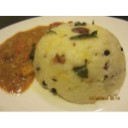venpongal: (37, 25, 125, 102)
